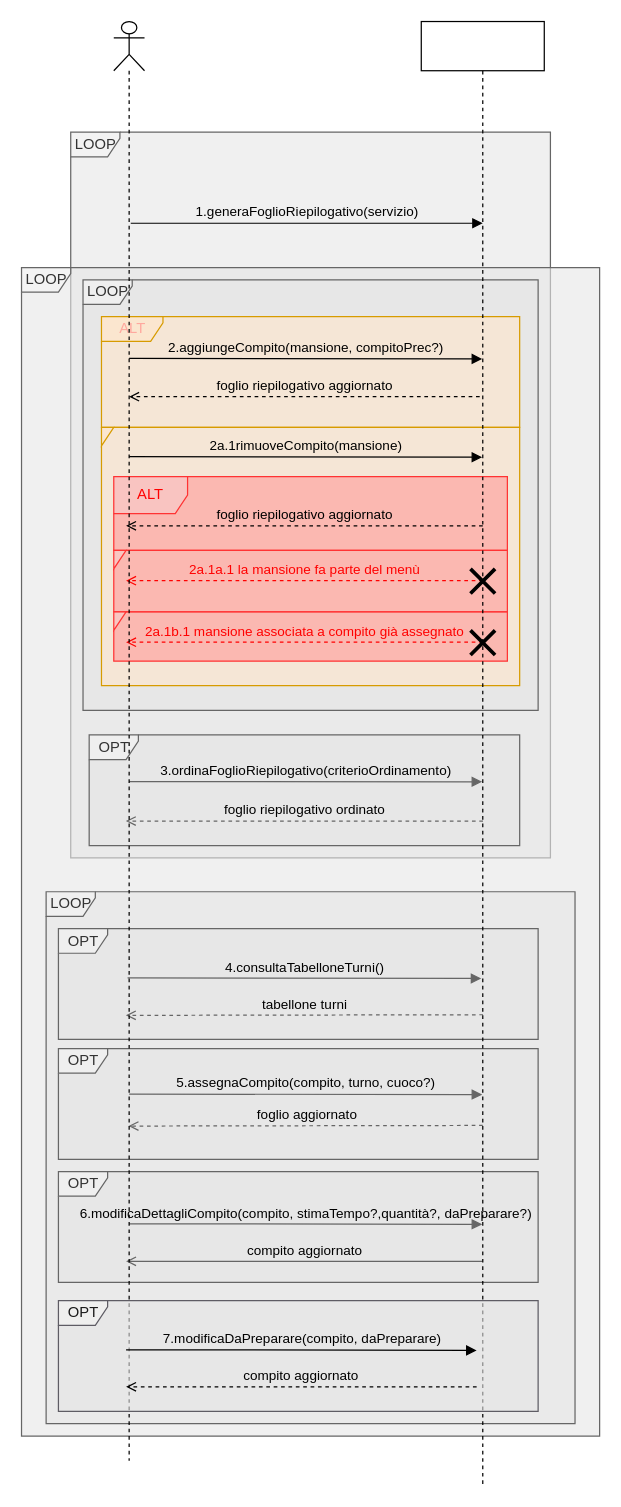
This 621x1507 diagram has some shape labels left out. The shapes that lost their labels are listed below. From the top down, each one's box as (x1, y1, x2, y2) in pixels, then its label:
(113, 20, 145, 1461): Chef
(420, 20, 544, 1485): Sistema
